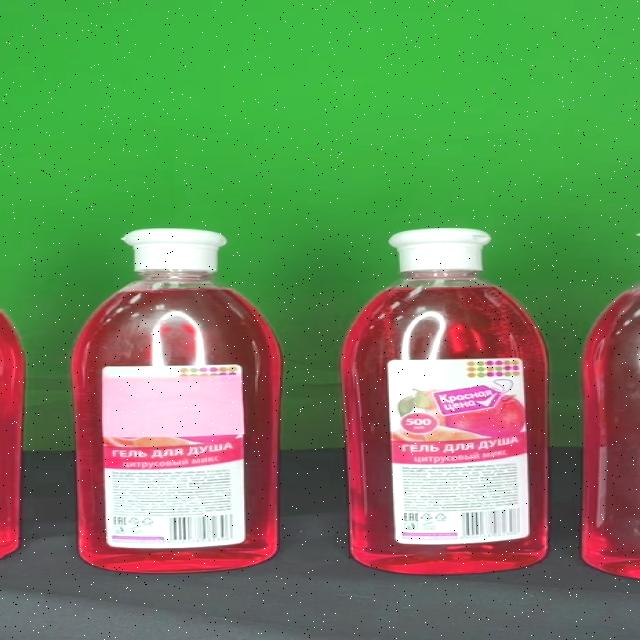Bottle: (70, 228, 281, 573), (340, 227, 548, 574)
Cap: (121, 229, 226, 272), (388, 228, 492, 270)
